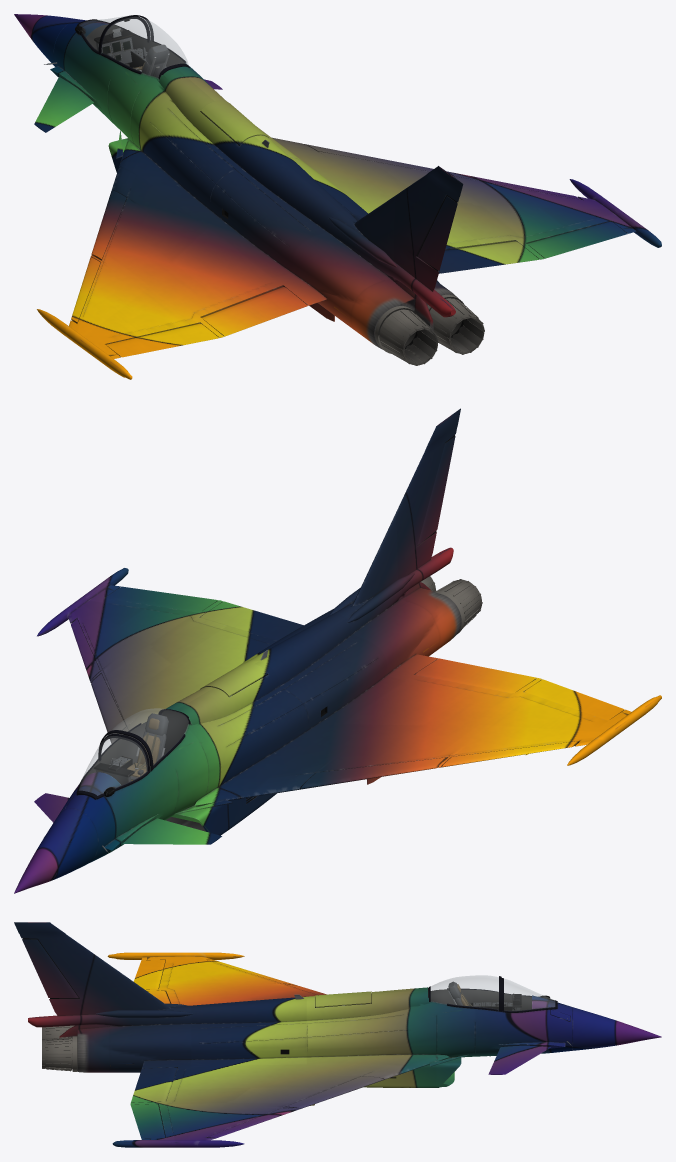
File: typhoon.harlequin.glb
3 renders of one model, top to bottom at view 1: azimuth 30°, elevation 25°; view 2: azimuth 150°, elevation 25°; view 3: azimuth 270°, elevation 25°, orthographic. The views are drawn at different scales.
Visible parts, largest first — view 1: TY_skin, canopy_glass, nozzle_l, flap_i_l, nozzle_r, flap_i_r, cockpit_int, flap_o_l, canard_l, flap_o_r, rudder, speedbrake (+5 smaller); view 2: TY_skin, screen_glass, canopy_glass, flap_i_l, flap_i_r, cockpit_int, slat_i_l, canard_l, flap_o_l, flap_o_r, rudder, nozzle_l (+4 smaller); view 3: TY_skin, canopy_glass, rudder, flap_i_r, nozzle_r, screen_glass, canard_r, flap_o_r, slat_i_r, flap_o_l, speedbrake, cockpit_int (+2 smaller).
Part boxes in pixels (x1,y1,x2,y2): TY_skin: [14, 14, 661, 379]; canopy_glass: [102, 17, 188, 78]; nozzle_l: [375, 306, 438, 365]; flap_i_l: [202, 287, 307, 336]; nozzle_r: [427, 294, 484, 354]; flap_i_r: [438, 241, 539, 273]; cockpit_int: [94, 28, 169, 77]; flap_o_l: [106, 323, 218, 357]; canard_l: [34, 77, 93, 132]; flap_o_r: [527, 221, 627, 258]; rudder: [417, 196, 457, 270]; speedbrake: [201, 100, 268, 145]; TY_skin: [14, 408, 661, 893]; screen_glass: [79, 736, 147, 795]; canopy_glass: [102, 708, 188, 764]; flap_i_l: [415, 658, 536, 693]; flap_i_r: [200, 601, 303, 640]; cockpit_int: [93, 713, 168, 785]; slat_i_l: [301, 757, 445, 789]; canard_l: [122, 818, 221, 844]; flap_o_l: [524, 679, 624, 720]; flap_o_r: [105, 586, 218, 612]; rudder: [417, 436, 455, 544]; nozzle_l: [434, 579, 482, 633]; TY_skin: [14, 922, 661, 1147]; canopy_glass: [431, 975, 498, 1009]; rudder: [22, 939, 78, 998]; flap_i_r: [131, 1067, 177, 1102]; nozzle_r: [42, 1036, 77, 1071]; screen_glass: [504, 979, 554, 1010]; canard_r: [488, 1045, 550, 1074]; flap_o_r: [130, 1104, 165, 1138]; slat_i_r: [286, 1076, 383, 1109]; flap_o_l: [133, 960, 165, 989]; speedbrake: [315, 991, 371, 1007]; cockpit_int: [448, 981, 521, 1010].
Size of the model in its own units: 11.1 by 4.13 by 15.97.
2 materials, 1 textured.
